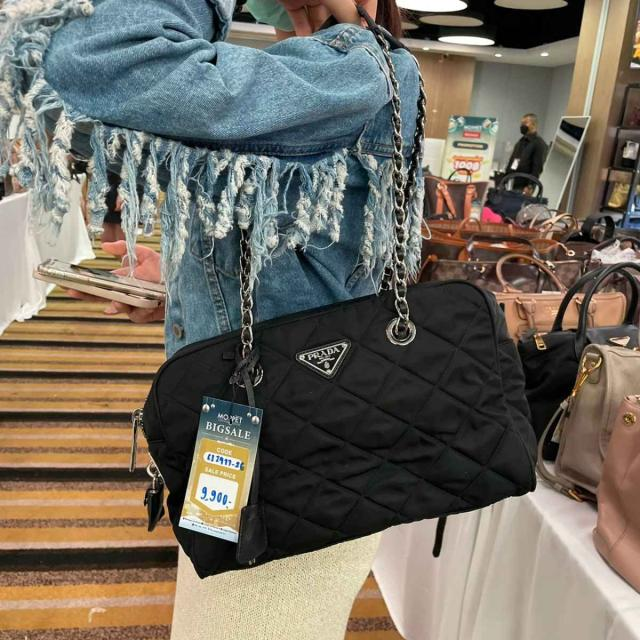handbag: (117, 268, 535, 594)
